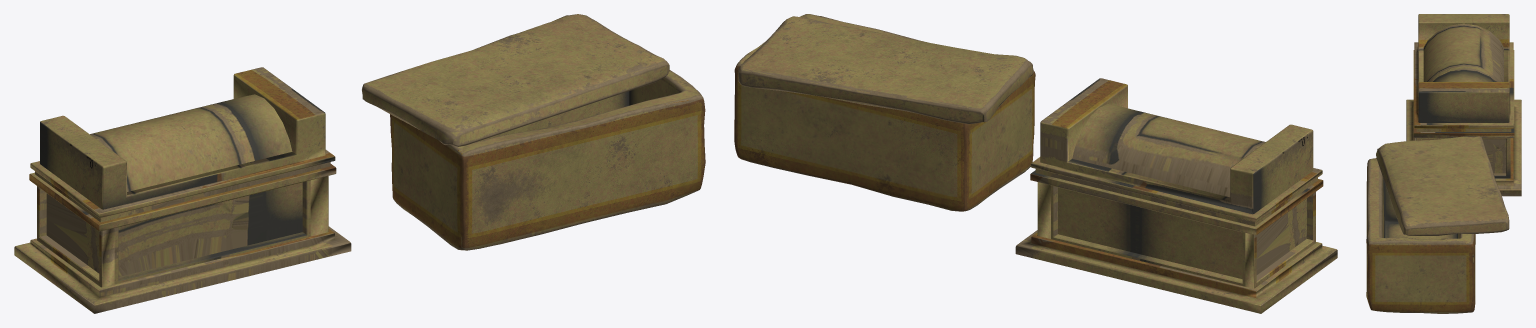
Rendered from Pyramid of giza Coffins.fbx.
3 renders of one model, left to right at view 1: azimuth 30°, elevation 25°; view 2: azimuth 150°, elevation 25°; view 3: azimuth 270°, elevation 25°, orthographic. The views are drawn at different scales.
Visible parts, largest first — view 1: egyptian_coffin_egyptian_coffin_textures_0, defaultMaterial; view 2: defaultMaterial, egyptian_coffin_egyptian_coffin_textures_0; view 3: egyptian_coffin_egyptian_coffin_textures_0, defaultMaterial.
Part boxes in pixels (bbox=[...]): egyptian_coffin_egyptian_coffin_textures_0: bbox=[362, 14, 705, 250]; defaultMaterial: bbox=[14, 67, 351, 313]; defaultMaterial: bbox=[1015, 78, 1337, 313]; egyptian_coffin_egyptian_coffin_textures_0: bbox=[734, 14, 1035, 211]; egyptian_coffin_egyptian_coffin_textures_0: bbox=[1366, 136, 1509, 313]; defaultMaterial: bbox=[1406, 14, 1521, 196].
Bounding box in the file's own units: 803 × 186 × 256.
2 materials, 2 textured.
